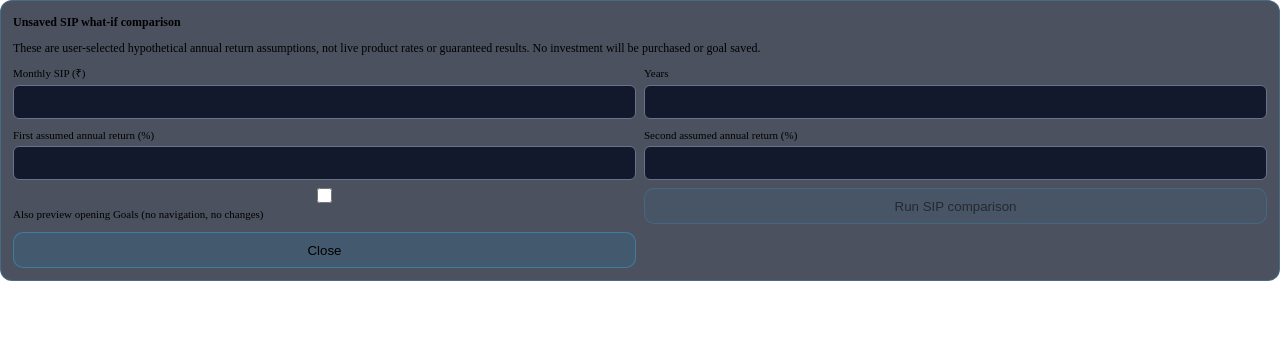
Sovereign SIP comparison › previews a user-reviewed Goals + SIP workflow without automatic navigation
This screenshot has width=1280, height=357.
Type "5000" into the number field named "Monthly SIP amount".
click(324, 102); type("5000")  # box [13,84,636,118]
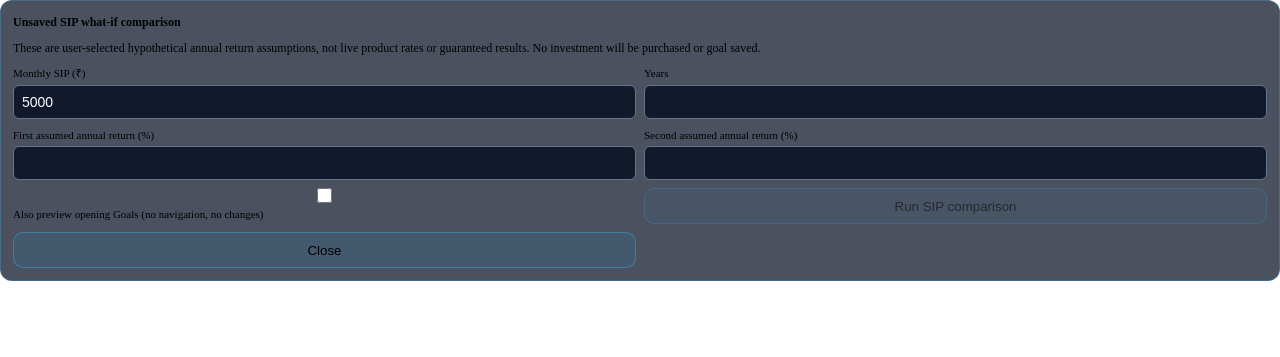
Type "10" into the number field named "SIP years".
click(956, 102); type("10")  # box [644,84,1267,118]
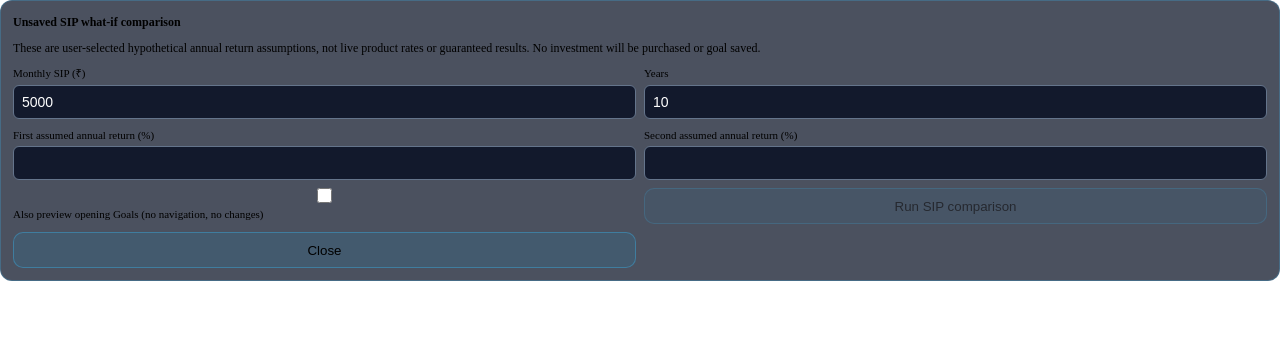
Type "7" into the number field named "First annual return assumption".
click(324, 163); type("7")  # box [13,146,636,180]
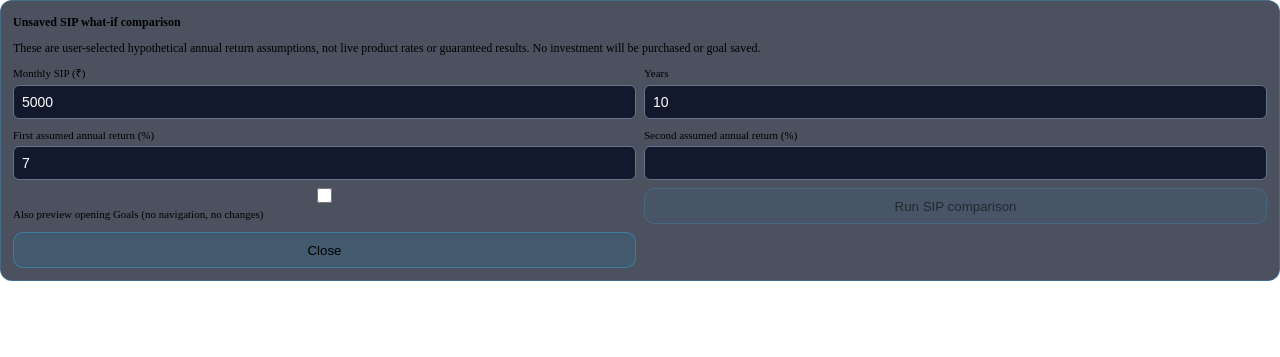
Type "10" into the number field named "Second annual return assumption".
click(956, 163); type("10")  # box [644,146,1267,180]
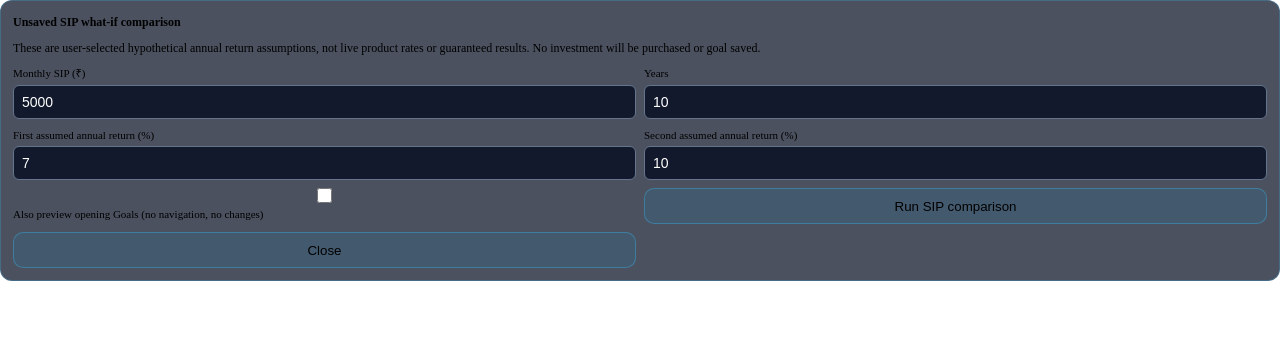
Click the checkbox named "Include Goals navigation proposal".
click(324, 195)  # box [13,188,636,203]
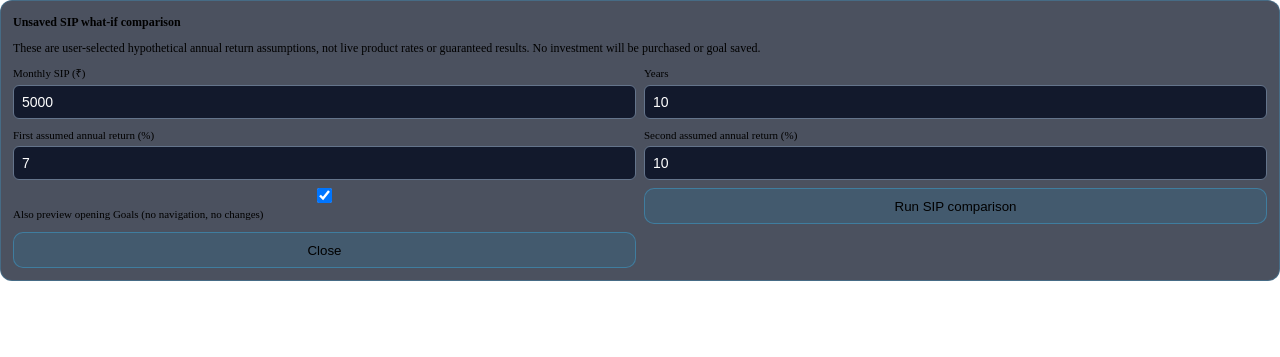
Click the button "Run SIP comparison".
click(956, 206)  # box [644,188,1267,224]
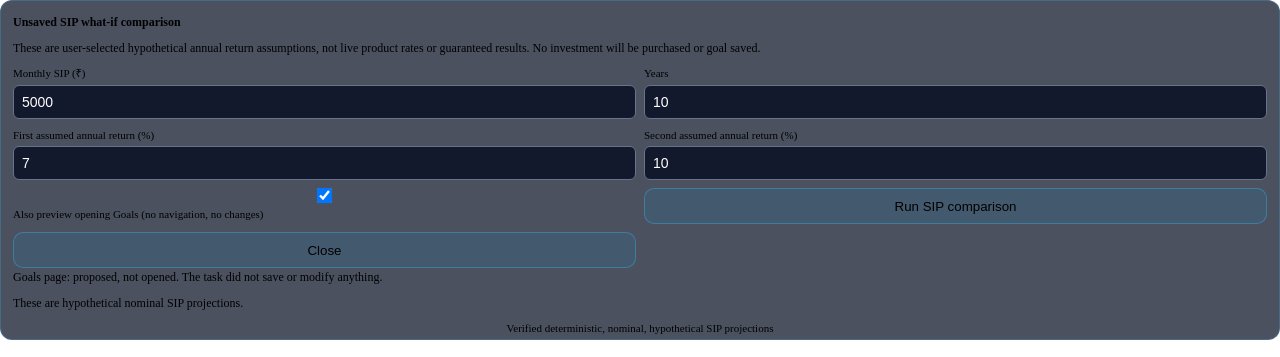
Check: the text "proposed, not opened" is shown, box [13,270,382,284]
